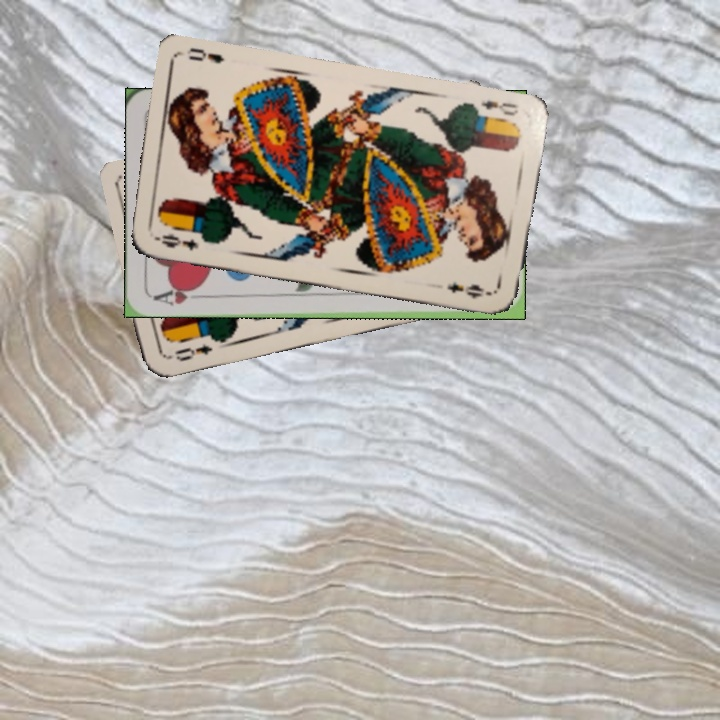EO: (150, 230, 202, 253), (170, 339, 216, 364), (477, 96, 521, 119)
HA: (149, 282, 208, 308)
